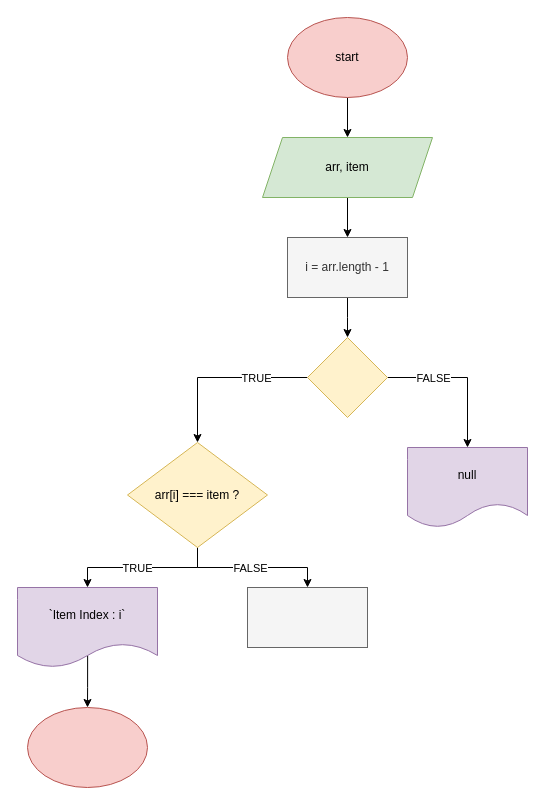
Image size: 545x805. Some labels were removed from this diagram. Here are the shapes that lost their labels. From the top down, the box of each, then its label:
(306, 336, 388, 418): i >= 0 ?
(246, 586, 368, 648): i--
(26, 706, 148, 788): END
